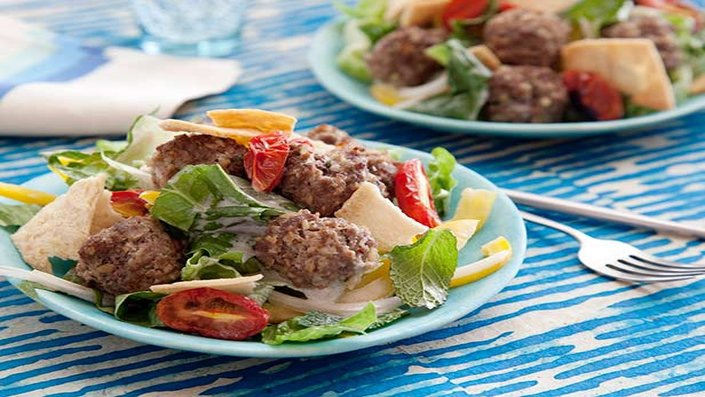chopped lettuce: (143, 162, 274, 280), (55, 114, 160, 194), (391, 218, 460, 324), (260, 299, 384, 347)
meatballs: (273, 132, 369, 209), (267, 211, 372, 281), (83, 223, 183, 288)
